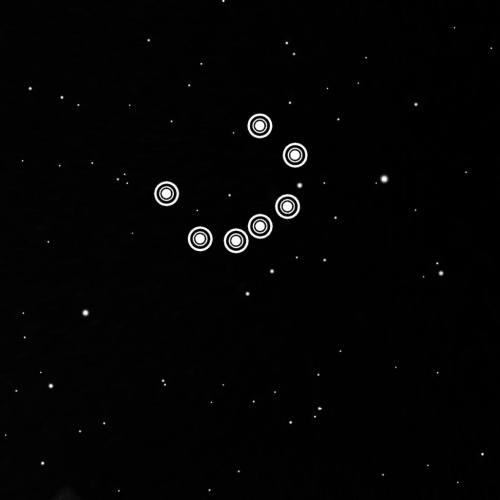corona_borealis: (151, 107, 313, 257)
